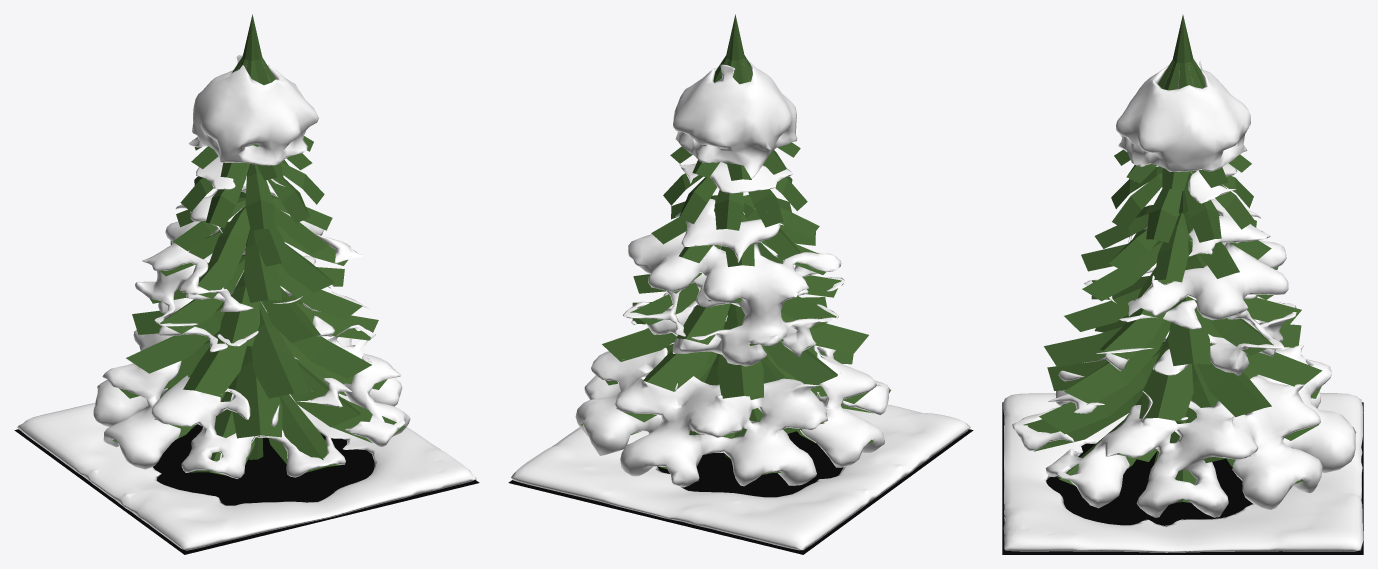
File: Tree_S10P1.glb
3 renders of one model, left to right at view 1: azimuth 30°, elevation 25°; view 2: azimuth 150°, elevation 25°; view 3: azimuth 270°, elevation 25°, orthographic. The views are drawn at different scales.
Visible parts, largest first — view 1: SnowMesh, Fir_Tree, Plane; view 2: SnowMesh, Fir_Tree, Plane; view 3: SnowMesh, Fir_Tree, Plane.
Part boxes in pixels (x1,y1,x2,y2): SnowMesh: (17, 54, 476, 550); Fir_Tree: (112, 14, 405, 475); Plane: (14, 424, 479, 554); SnowMesh: (511, 61, 970, 550); Fir_Tree: (581, 14, 890, 475); Plane: (508, 429, 973, 554); SnowMesh: (1003, 60, 1363, 552); Fir_Tree: (1023, 15, 1322, 502); Plane: (1002, 402, 1363, 554).
Size of the model in its own units: 4 by 5.73 by 4.
